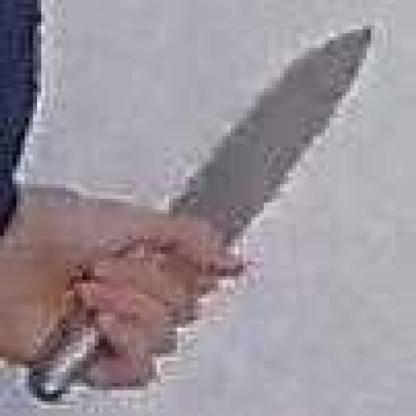Knife: (26, 16, 381, 404)
